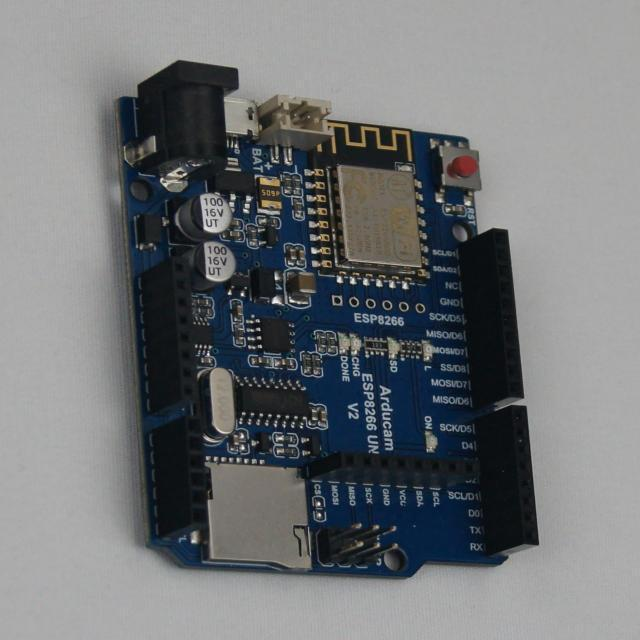Arduino Uno Camera Shield: (120, 62, 539, 578)
